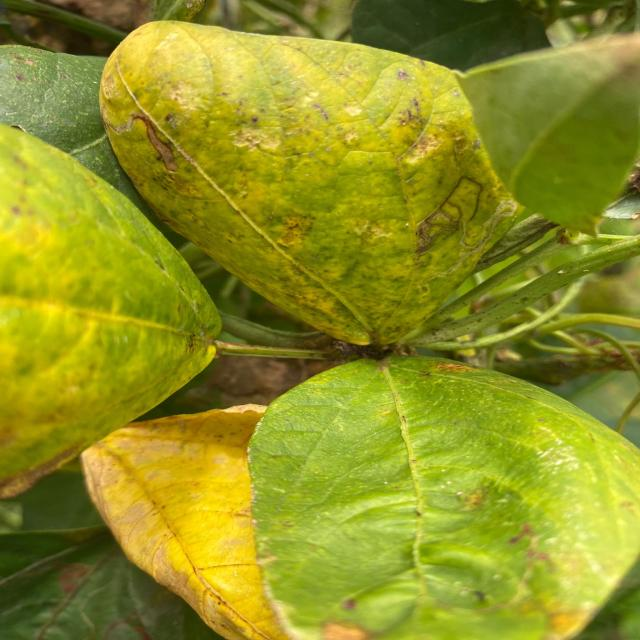leaf-moderate: (100, 21, 521, 351)
sitaw-aphid-high: (249, 356, 640, 640), (0, 120, 221, 501)
sitaw-aphid-low: (82, 404, 287, 640)
